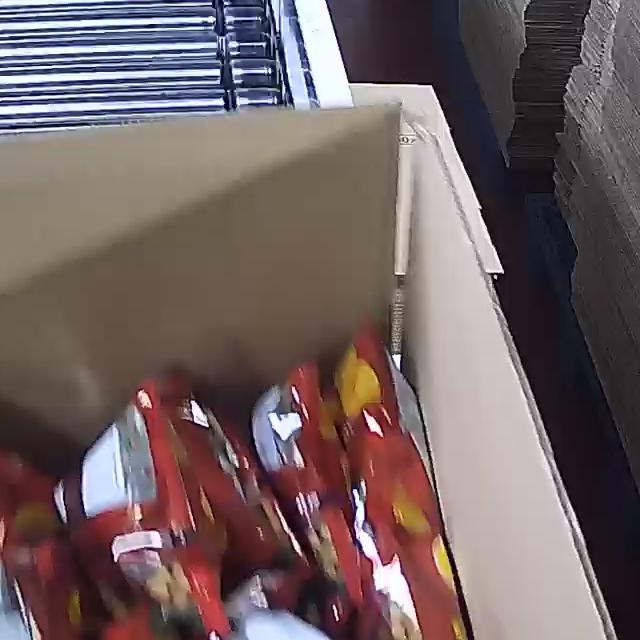masala: (0, 323, 521, 640)
